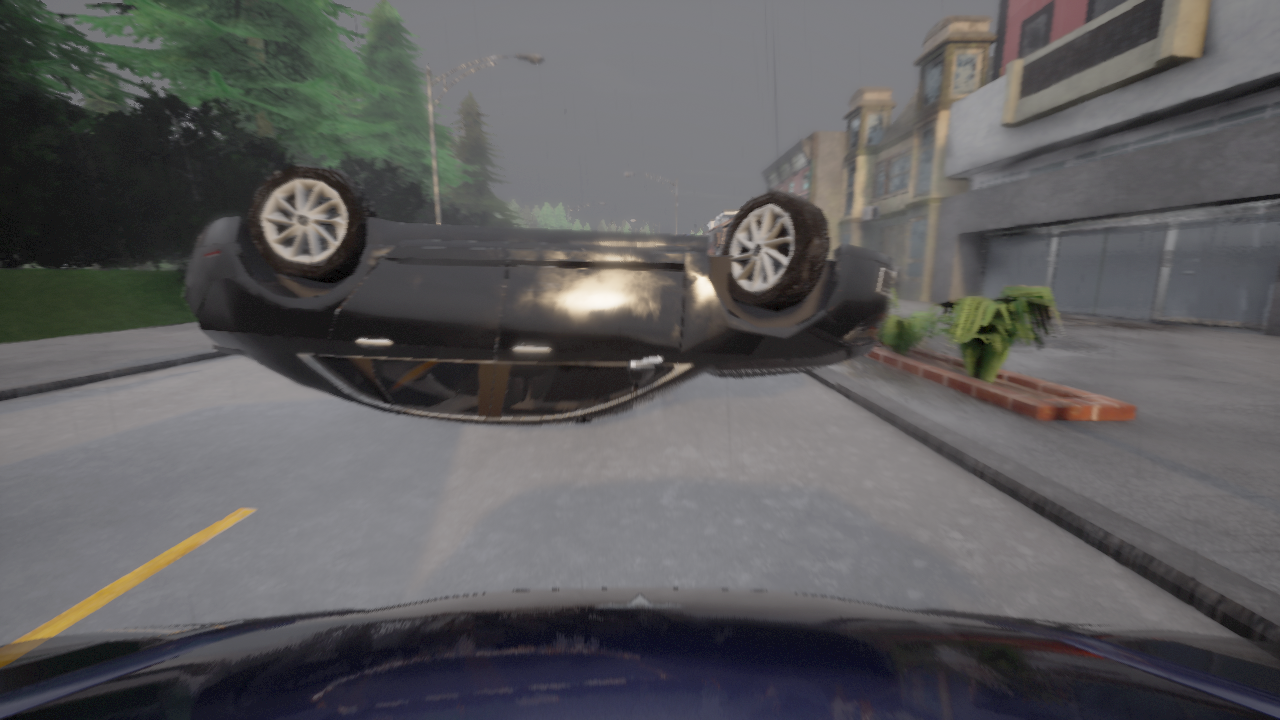cyclist: (182, 165, 894, 425), (0, 588, 1279, 719)
